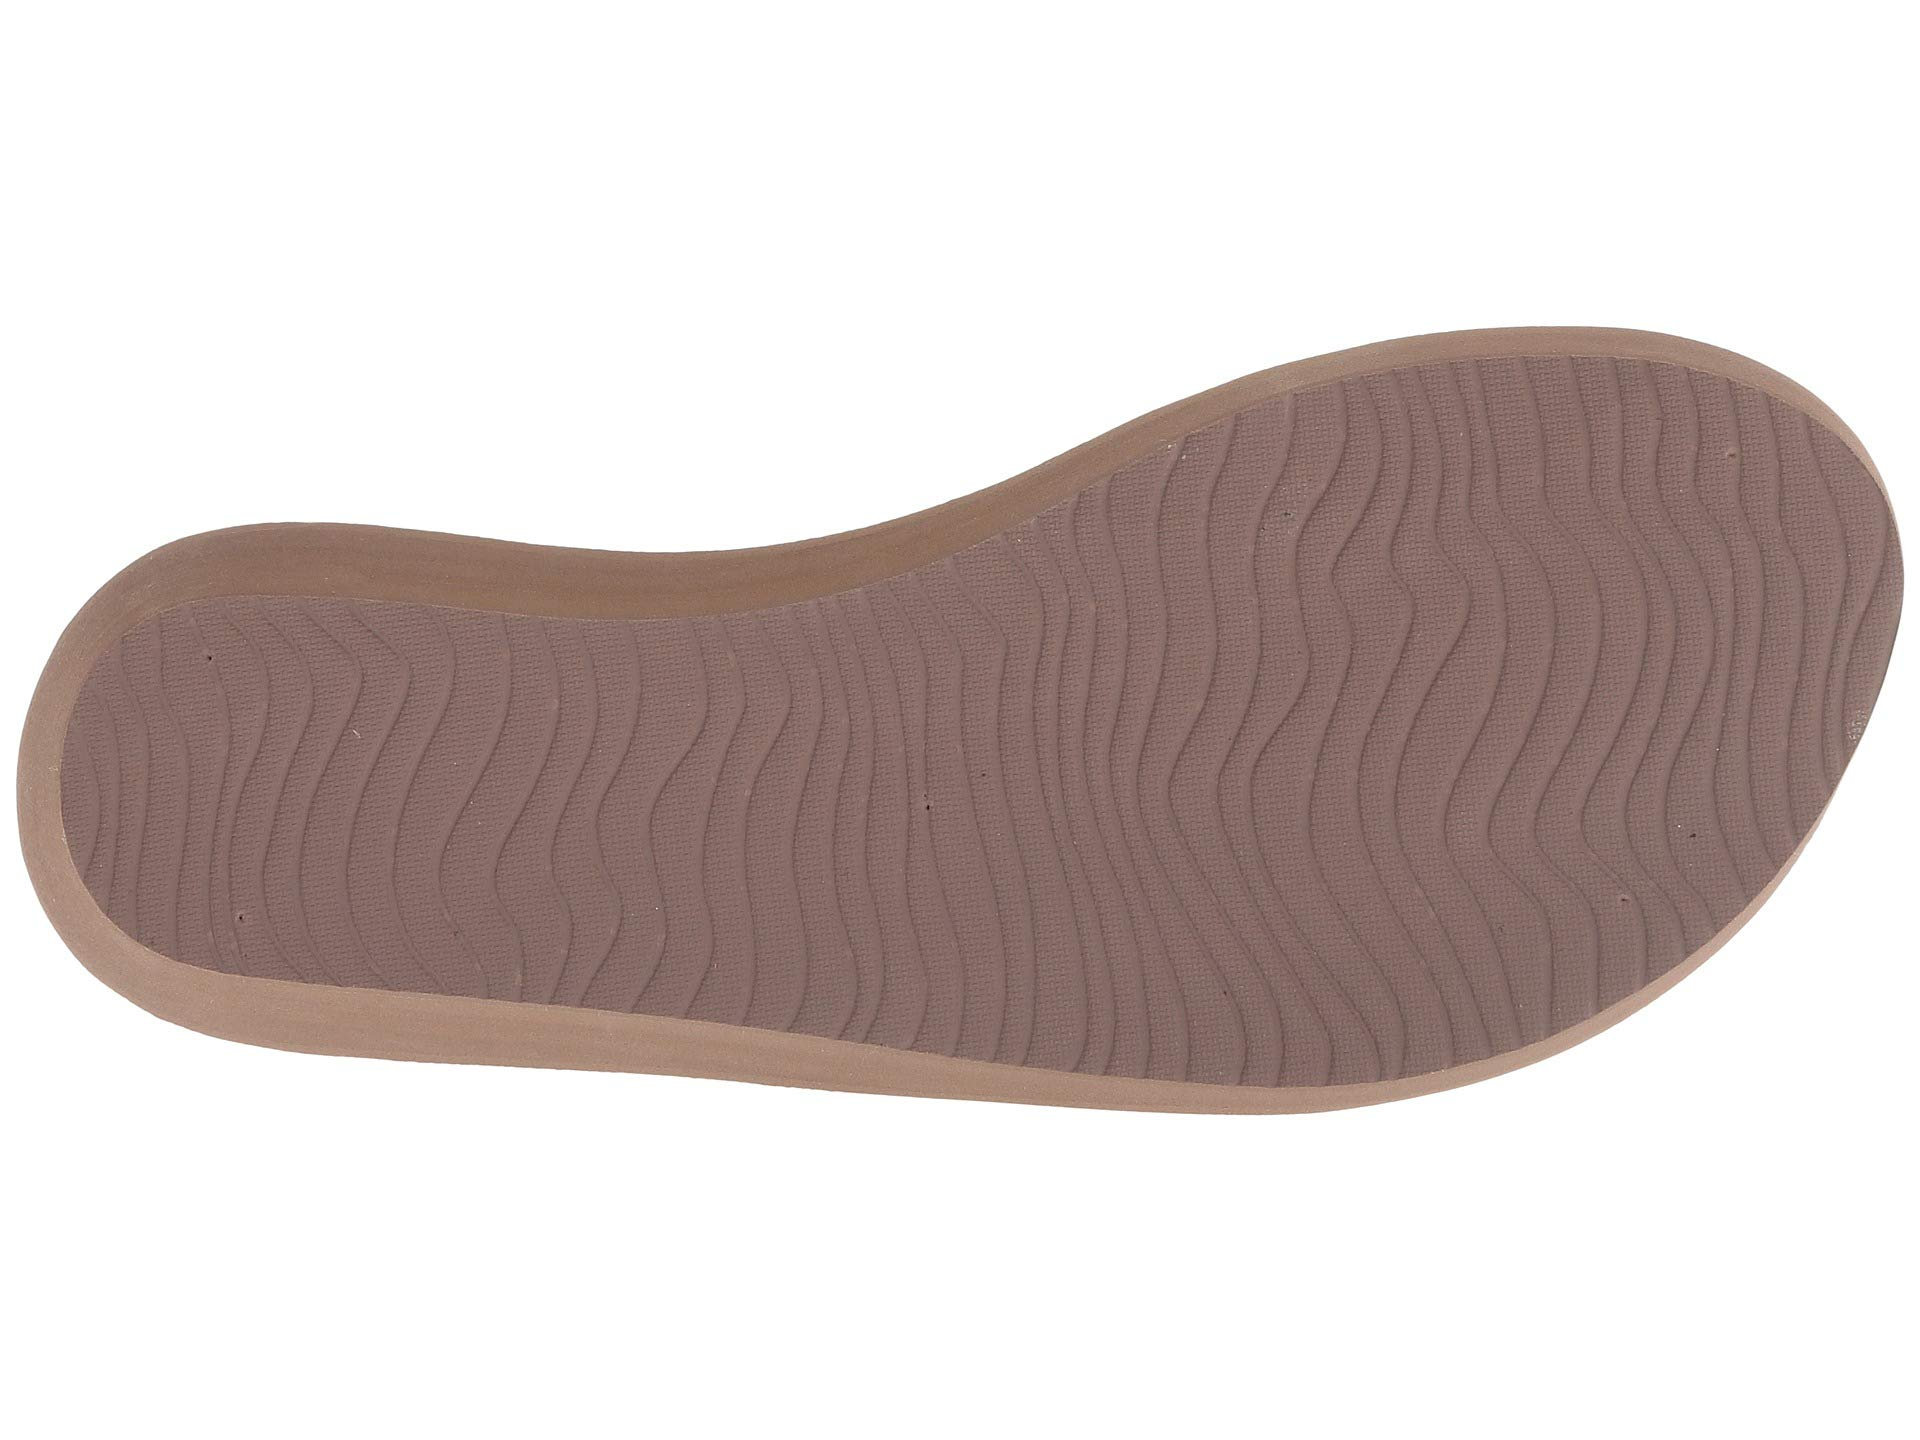line: (903, 629, 1181, 936)
